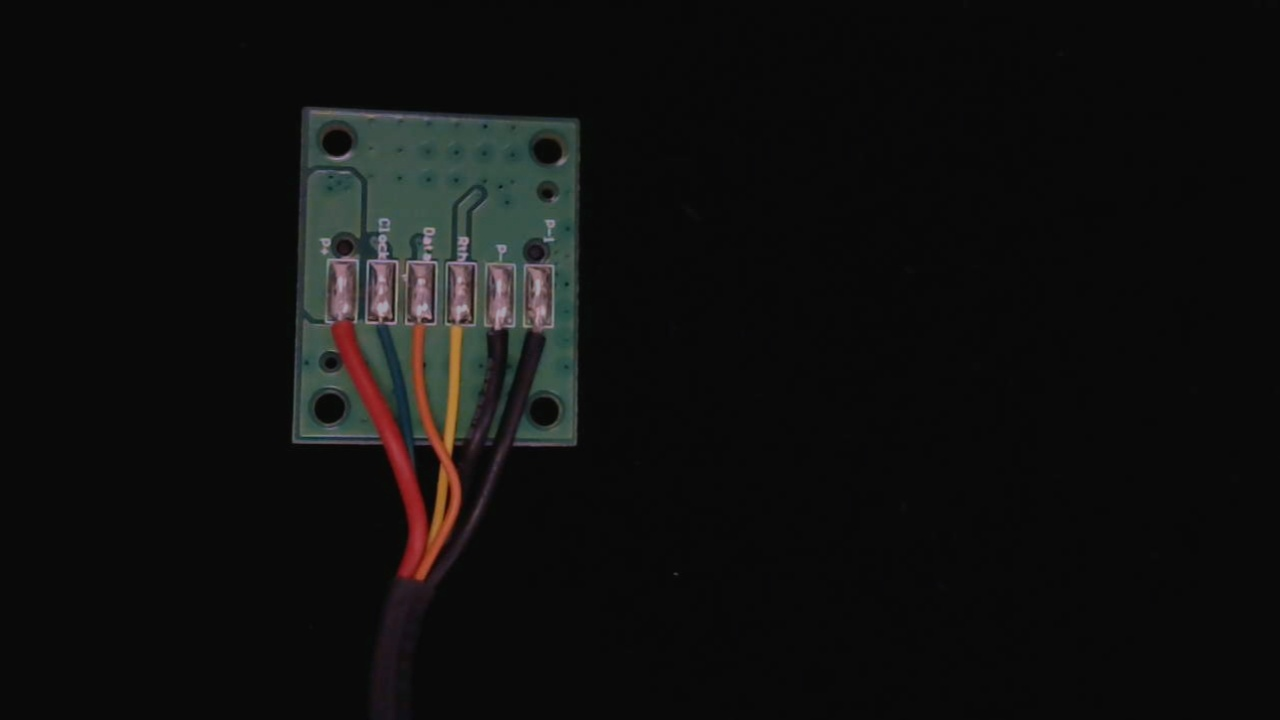Black: (483, 305, 515, 373)
Black1: (522, 307, 555, 378)
Green: (368, 303, 400, 370)
Orange: (404, 304, 435, 373)
Red: (327, 303, 360, 370)
Yellow: (446, 304, 474, 368)
